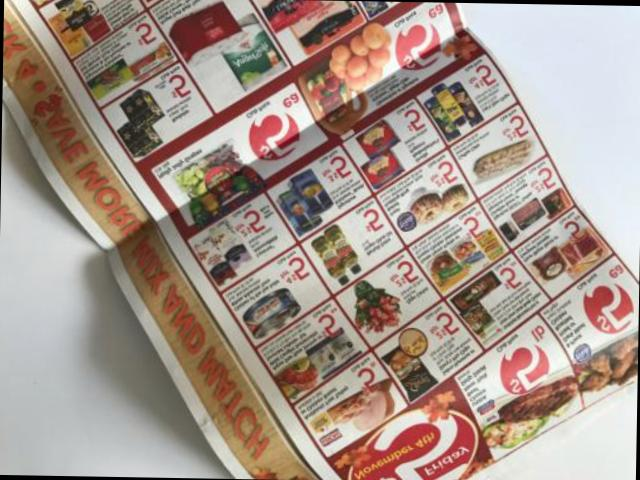cardboard paper: (2, 0, 639, 480)
